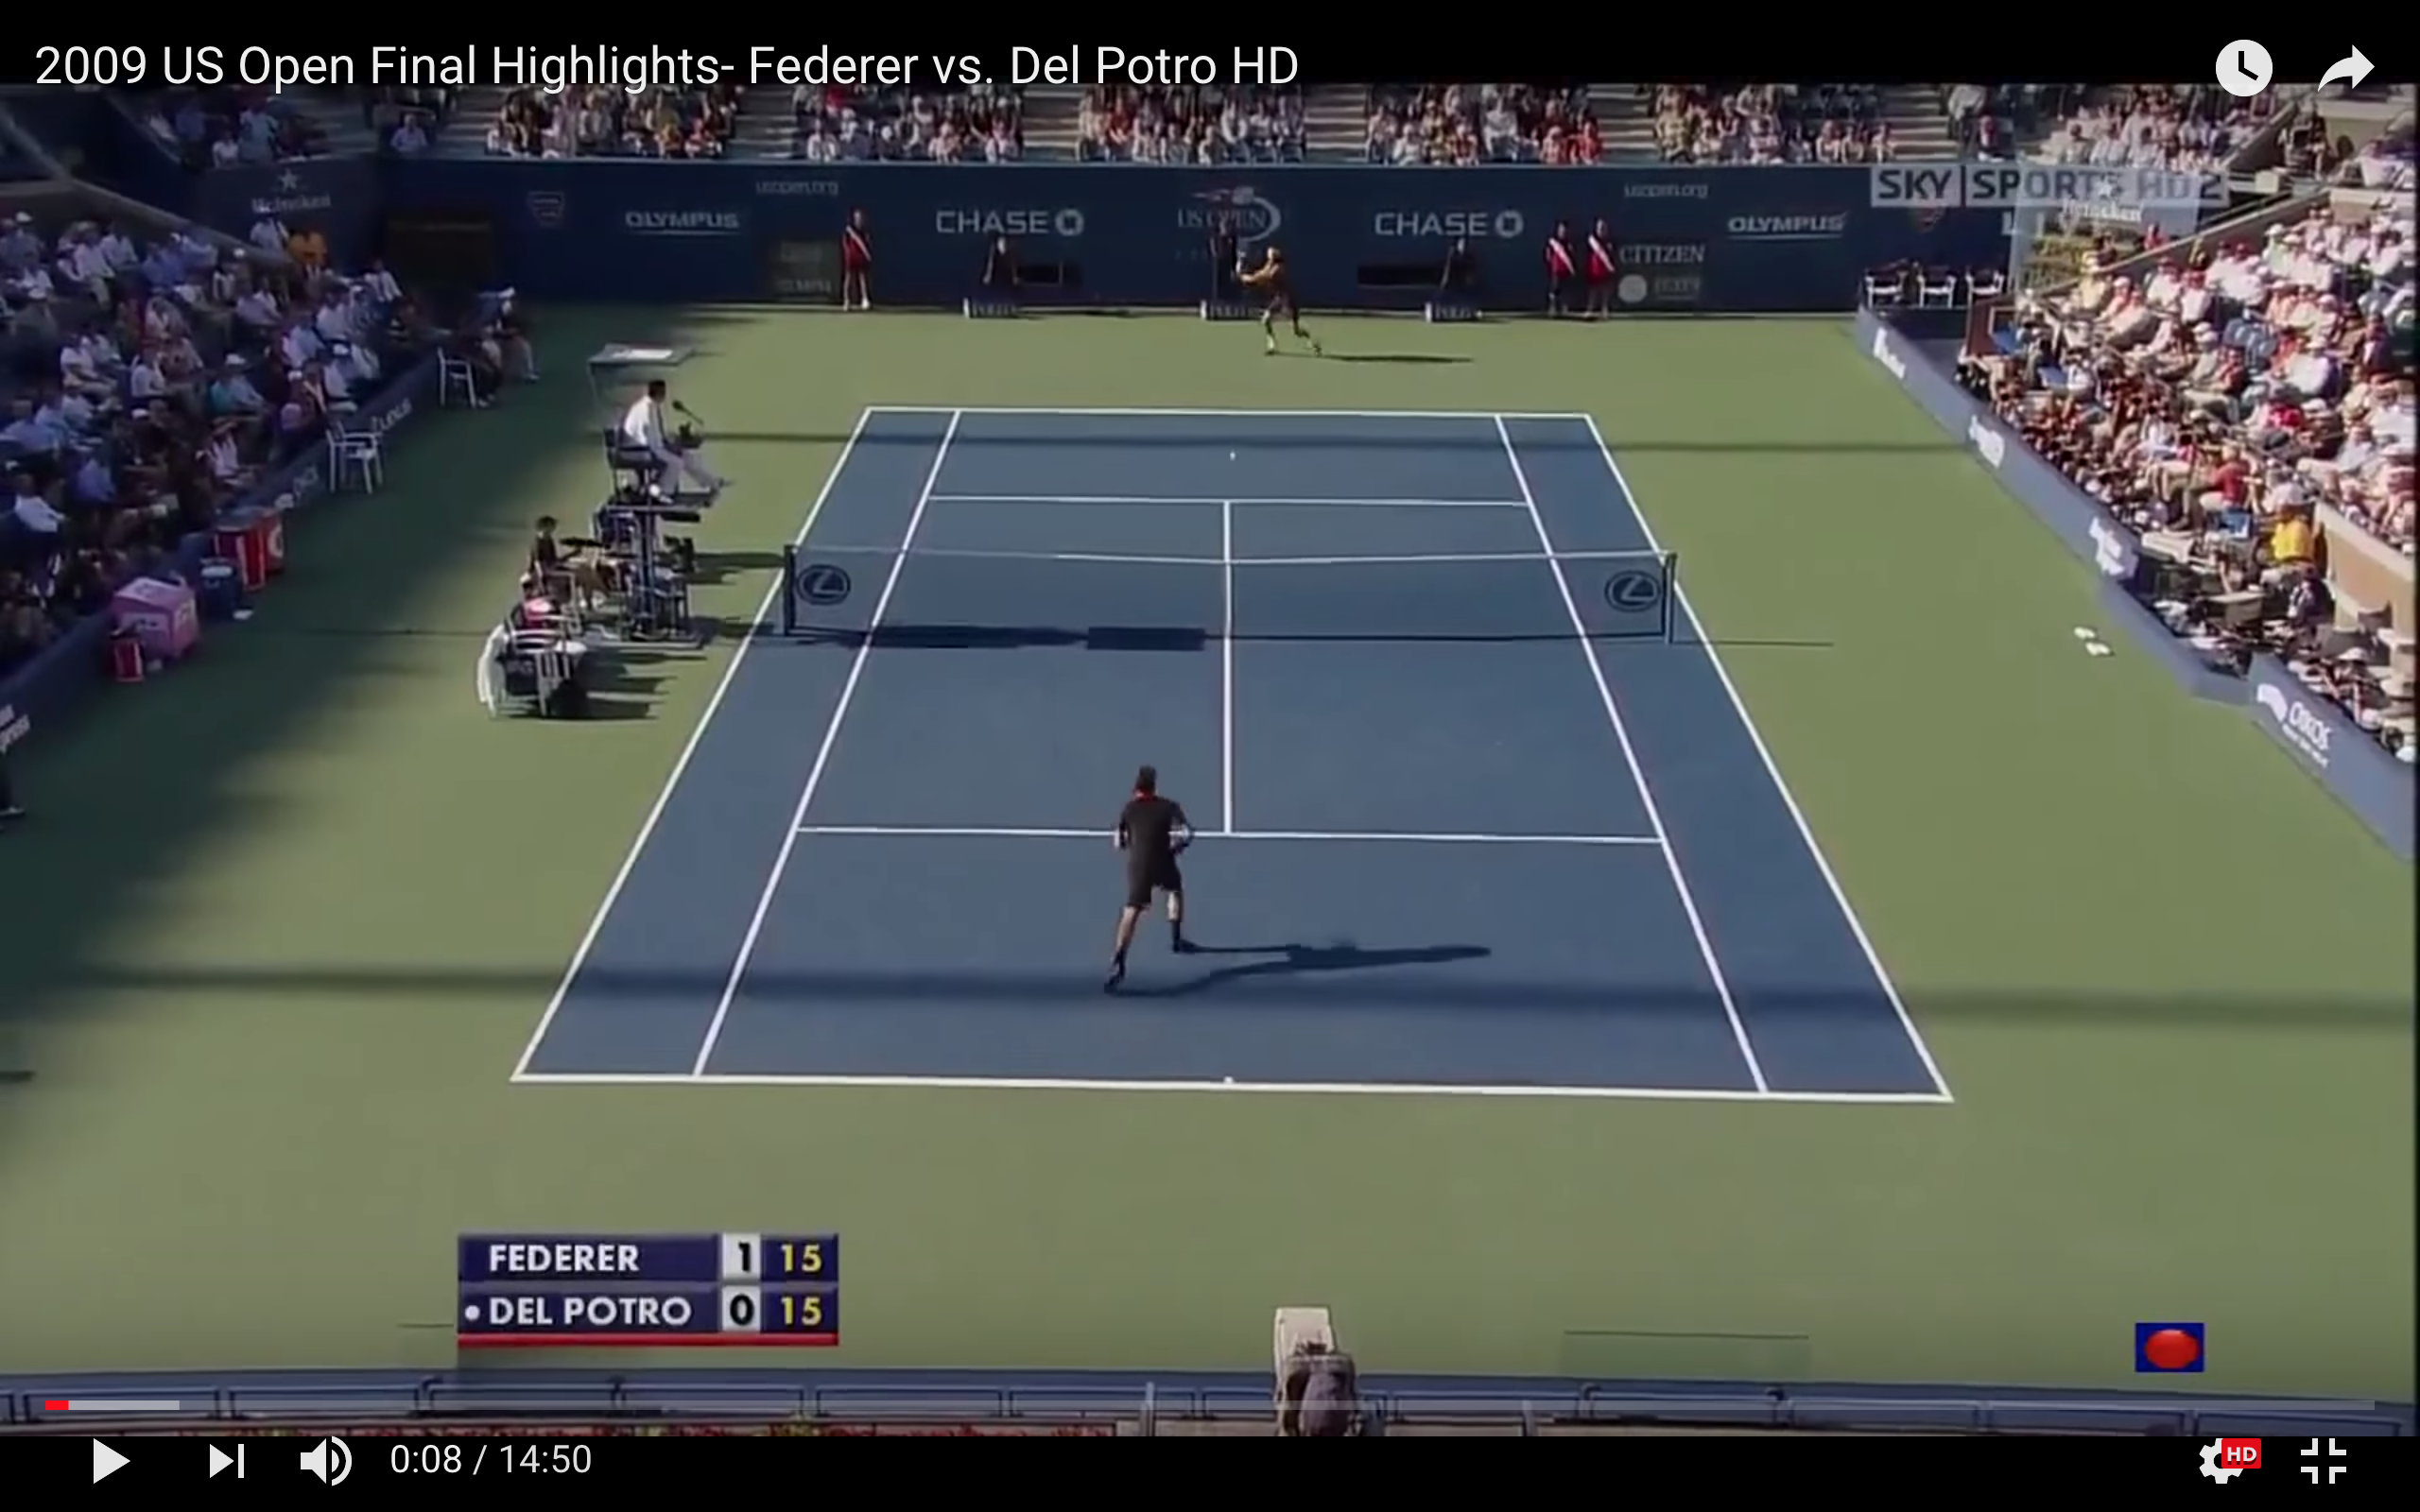tennis ball: (1222, 449, 1246, 464)
tennis player: (1094, 764, 1214, 993), (1232, 241, 1316, 354)
